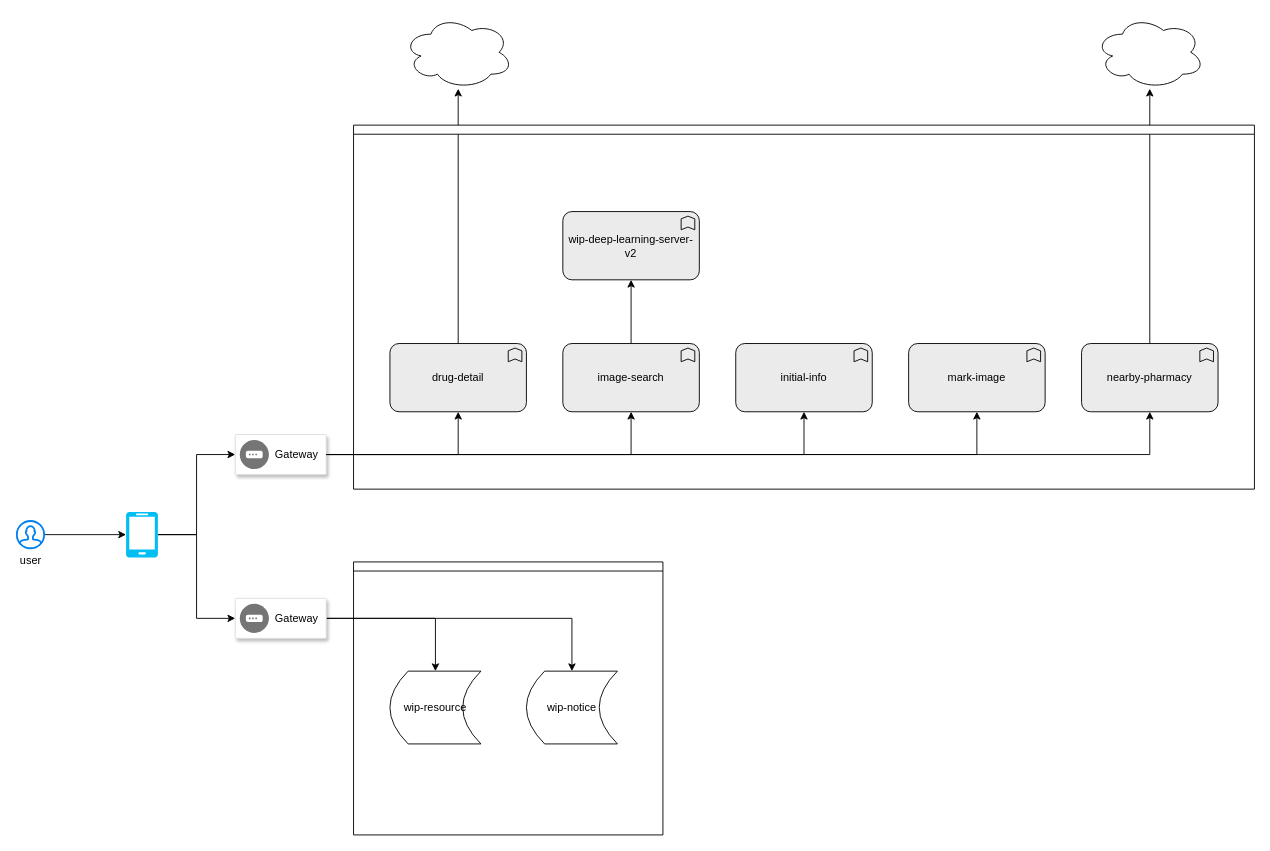
Image size: 1270x851. Some labels were removed from this diagram. The shapes that lost their labels are listed below. From the top down, each one's centre as x and y in pixels, then its label:
the point at 458,52: 의약품 제품 허가정보 API
the point at 1149,52: 약국 API
the point at 803,306: Google Cloud Platform
the point at 141,534: application
the point at 508,698: Cloudflare
